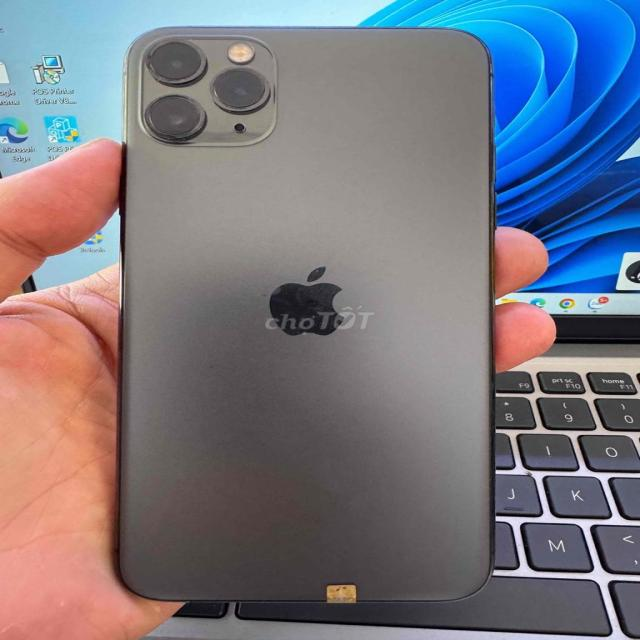gen_11: (107, 20, 525, 608)
